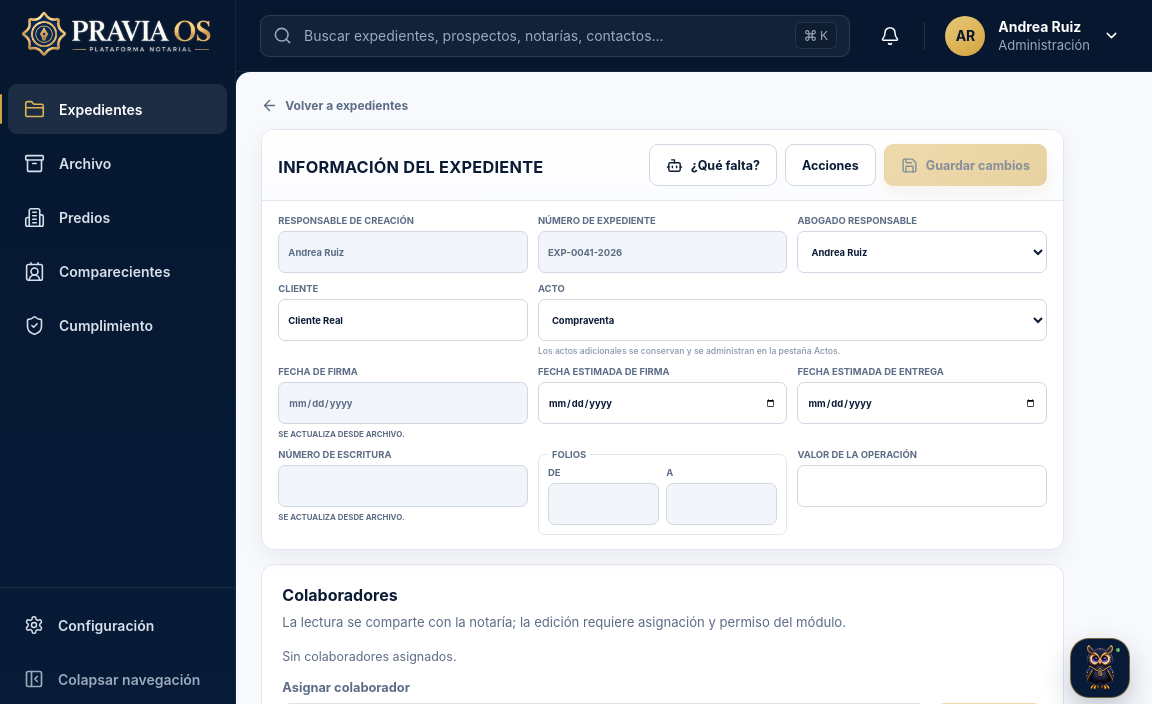
it: Expedientes › conserva los valores locales si el backend rechaza el guardado
The image size is (1152, 704).
Expected: the heading "Información del expediente" is shown, 278,157 -> 544,177
Replace the text in the field labelled "Cliente" with "Cambio sin perder" at (403, 320), box 278,299 -> 528,341
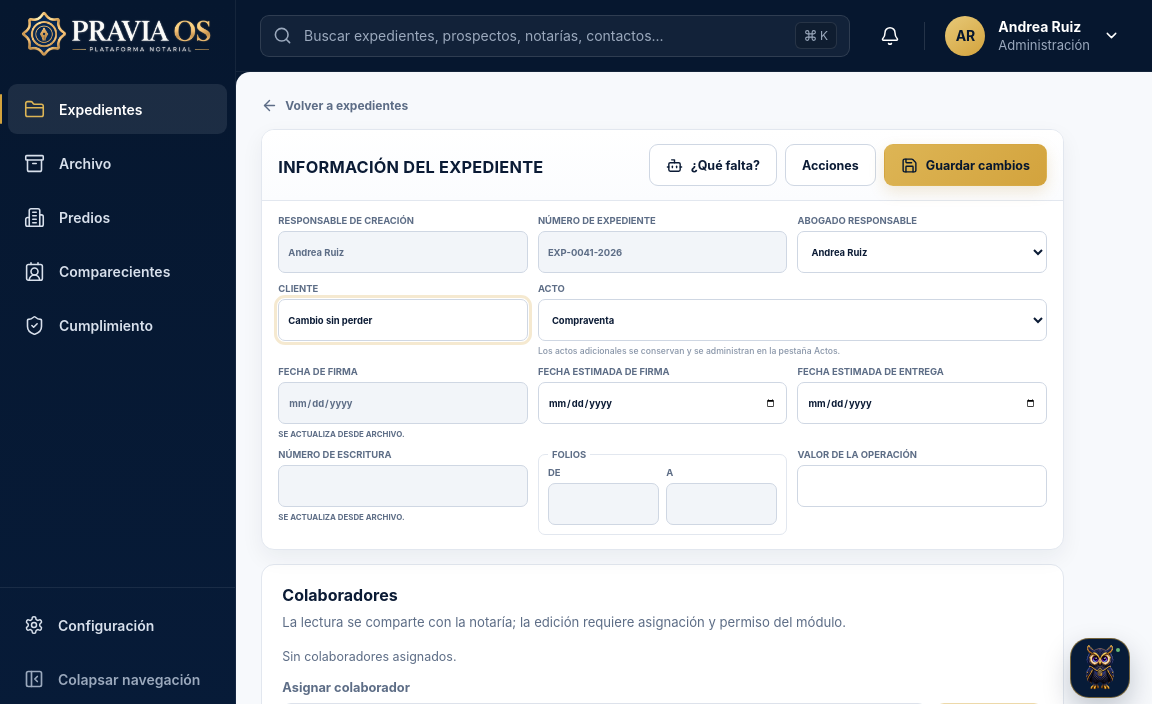
Click the button "Guardar cambios" at (965, 165), box 884,144 -> 1047,186
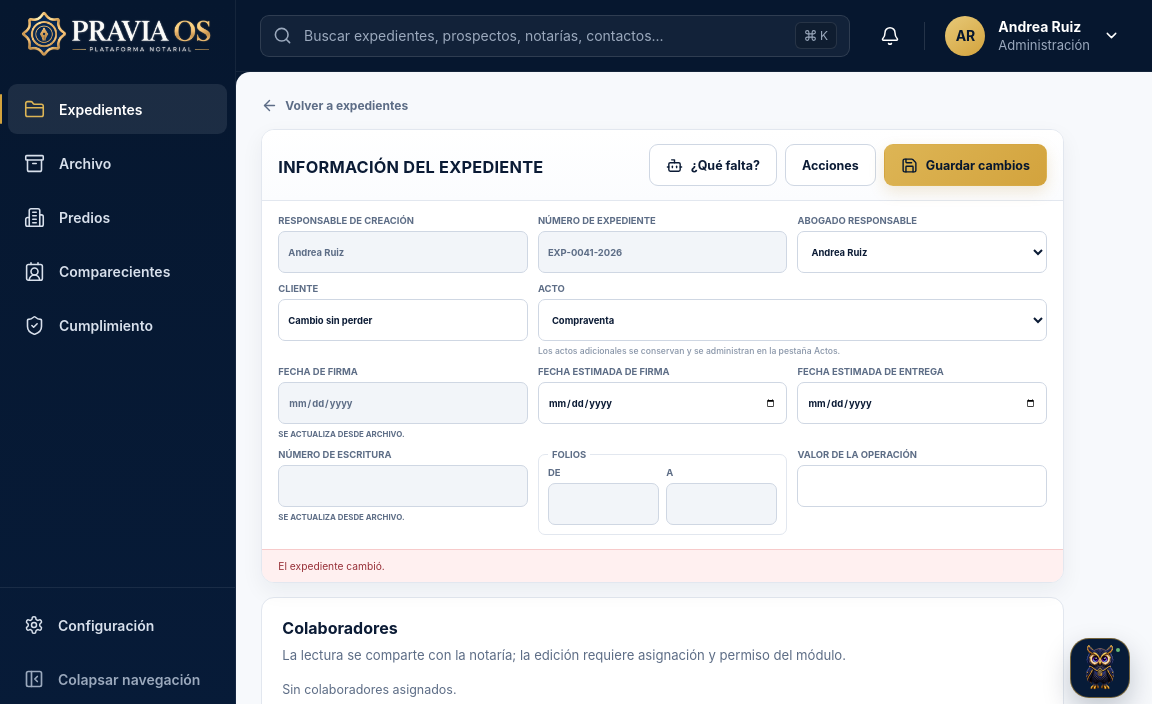
Expected: the message reads "El expediente cambió.", 278,560 -> 385,572
